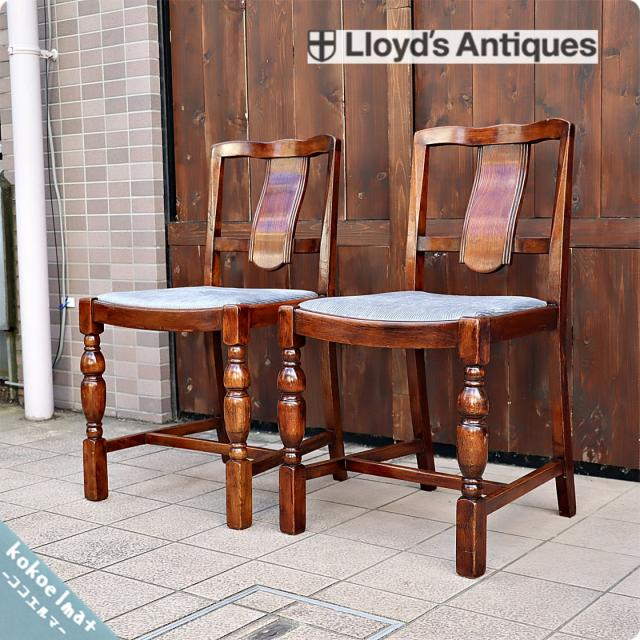chair vintage: (279, 116, 584, 583)
